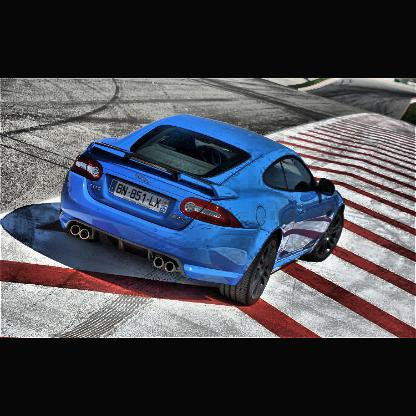Jaguar XK XKR 2012: (61, 114, 347, 307)
